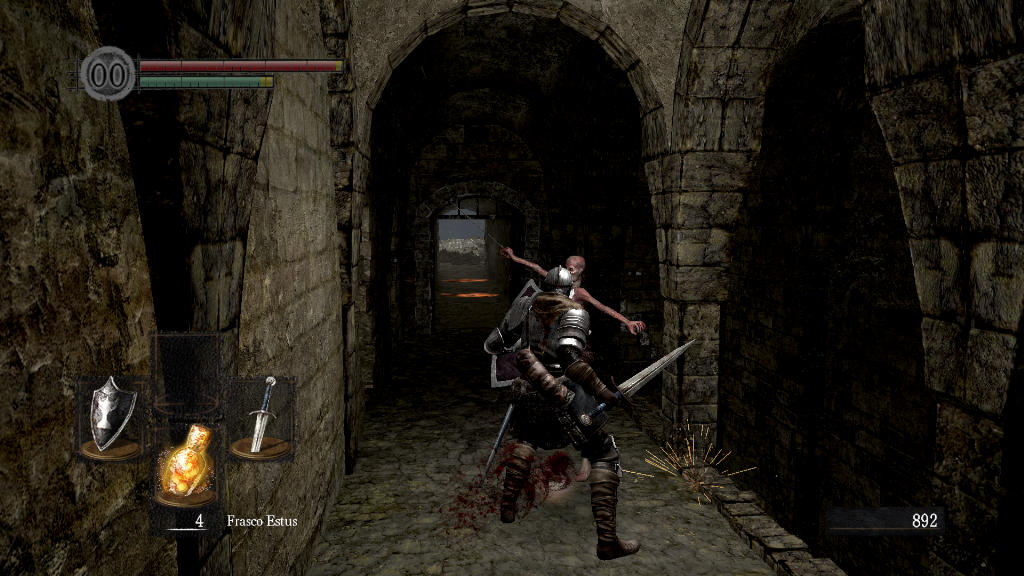health: (138, 58, 343, 71)
humanity: (80, 45, 136, 102)
player: (481, 265, 698, 561)
souls: (825, 506, 945, 536)
stamina: (138, 74, 274, 88)
